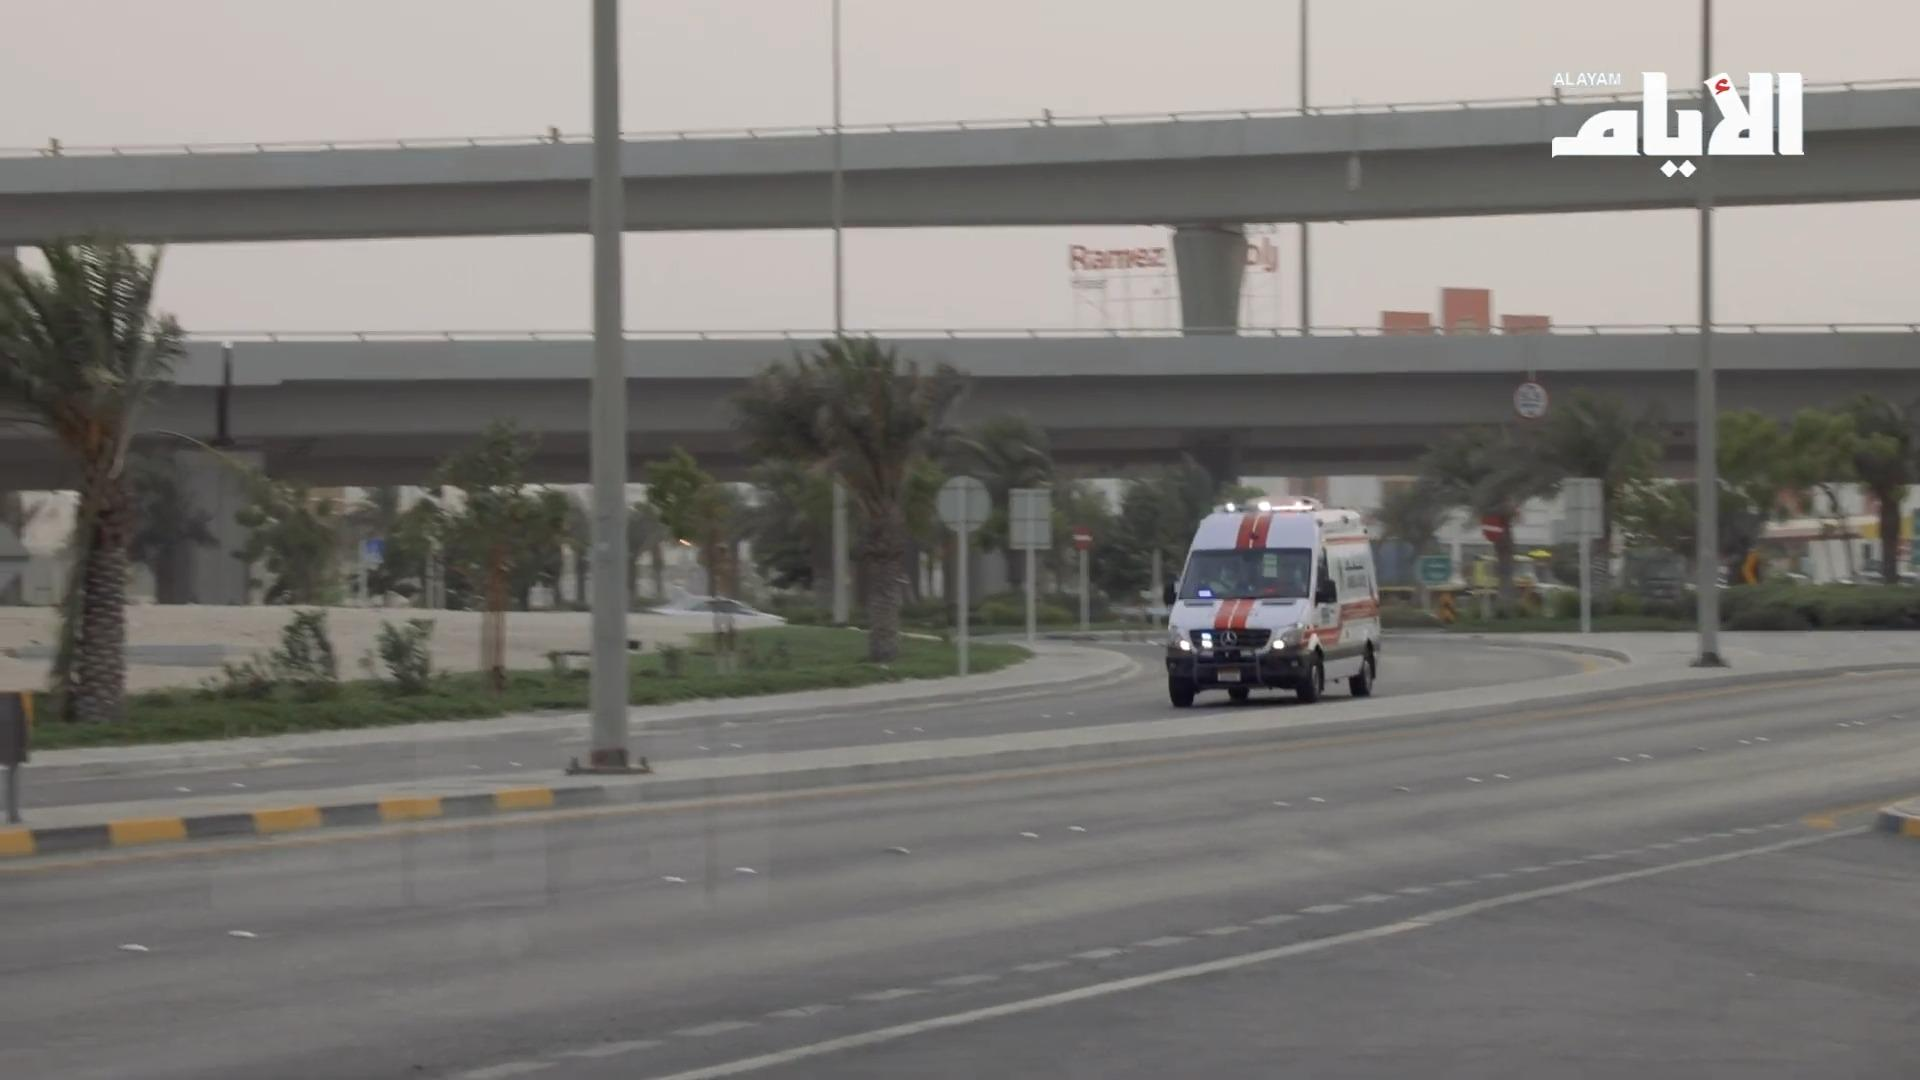ambulance_on: (1162, 495, 1379, 708)
